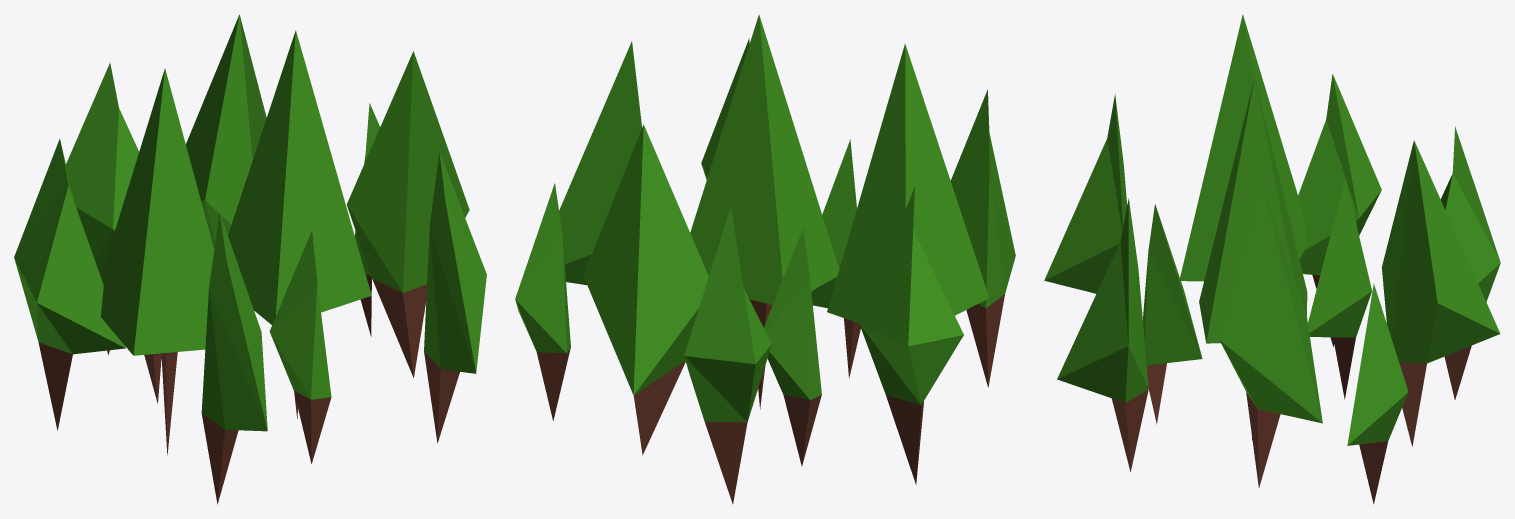
File: Tree_small_02LODLOW.fbx
3 views of the same model, side by side, from view 1: azimuth 30°, elevation 25°; view 2: azimuth 150°, elevation 25°; view 3: azimuth 270°, elevation 25° (orthographic). The views are drawn at different scales.
Visible parts, largest first — view 1: Tree_small_02LODLOW; view 2: Tree_small_02LODLOW; view 3: Tree_small_02LODLOW.
Boxes of the visible parts, left/top/right/bottom form: Tree_small_02LODLOW: left=14, top=14, right=486, bottom=504; Tree_small_02LODLOW: left=515, top=14, right=1015, bottom=504; Tree_small_02LODLOW: left=1044, top=14, right=1500, bottom=504.
Size of the model in its own units: 15.1 by 13.46 by 15.2.
